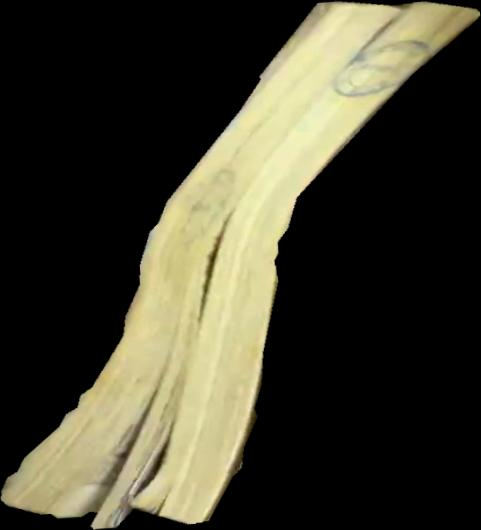backward: (1, 1, 481, 530)
